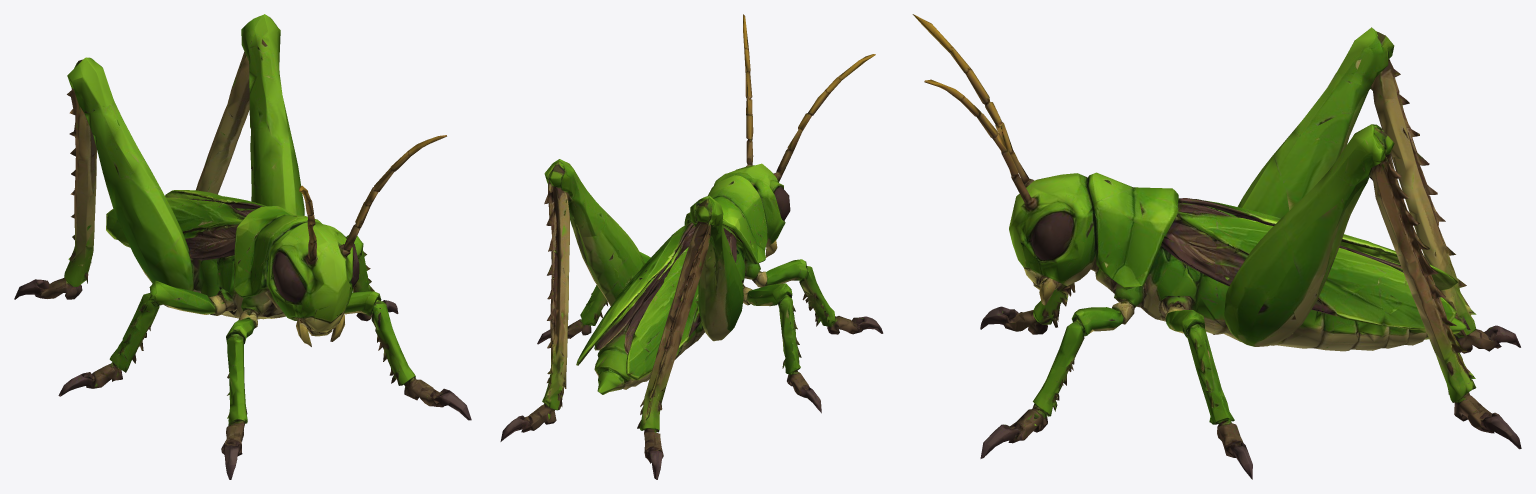
File: hopper.glb
3 views of the same model, side by side, from view 1: azimuth 30°, elevation 25°; view 2: azimuth 150°, elevation 25°; view 3: azimuth 270°, elevation 25° (orthographic). The views are drawn at different scales.
Bounding box in the file's own units: 1.36 × 1.23 × 1.9.
Materials: 1 (1 with a texture image).
